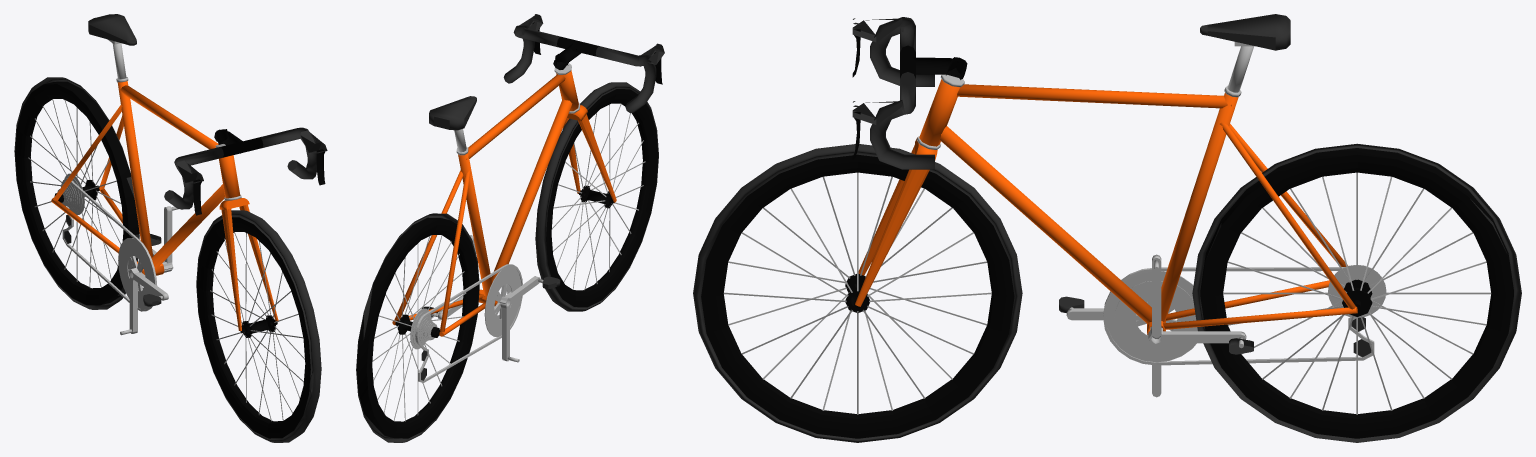
The model's file is velo.dae.
3 renders of one model, left to right at view 1: azimuth 30°, elevation 25°; view 2: azimuth 150°, elevation 25°; view 3: azimuth 270°, elevation 25°, orthographic. The views are drawn at different scales.
Visible parts, largest first — view 1: Wheel_Front_Pivot_Hub, Frame, Wheel_Rear_Pivot_Origin, Wheel_Rear_Pivot_Hub, Cockpit_Pivot_Origin, Wheel_Front_Pivot_ST, Crankset_Pivot_Origin, Crankset_Pivot_BB, Cockpit_Pivot_ST, Wheel_Front_Pivot_Origin, Chain; view 2: Frame, Wheel_Front_Pivot_ST, Wheel_Rear_Pivot_Origin, Wheel_Rear_Pivot_Hub, Wheel_Front_Pivot_Hub, Cockpit_Pivot_ST, Cockpit_Pivot_Origin, Crankset_Pivot_BB, Wheel_Front_Pivot_Origin, Crankset_Pivot_Origin, Chain; view 3: Frame, Wheel_Front_Pivot_ST, Wheel_Rear_Pivot_Origin, Wheel_Rear_Pivot_Hub, Wheel_Front_Pivot_Hub, Cockpit_Pivot_Origin, Crankset_Pivot_Origin, Cockpit_Pivot_ST, Crankset_Pivot_BB, Wheel_Front_Pivot_Origin, Chain.
Part boxes in pixels (box(x1,y1,x2,y2)): Wheel_Front_Pivot_Hub: box(199, 210, 321, 440); Frame: box(51, 14, 241, 275); Wheel_Rear_Pivot_Origin: box(14, 77, 139, 305); Wheel_Rear_Pivot_Hub: box(14, 78, 139, 309); Cockpit_Pivot_Origin: box(164, 127, 327, 330); Wheel_Front_Pivot_ST: box(196, 210, 312, 441); Crankset_Pivot_Origin: box(118, 238, 173, 309); Crankset_Pivot_BB: box(118, 206, 178, 335); Cockpit_Pivot_ST: box(169, 129, 325, 330); Wheel_Front_Pivot_Origin: box(198, 212, 319, 442); Chain: box(61, 178, 157, 311); Frame: box(392, 63, 580, 336); Wheel_Front_Pivot_ST: box(535, 89, 657, 311); Wheel_Rear_Pivot_Origin: box(356, 213, 479, 438); Wheel_Rear_Pivot_Hub: box(356, 214, 479, 442); Wheel_Front_Pivot_Hub: box(548, 82, 658, 307); Cockpit_Pivot_ST: box(515, 14, 664, 202); Cockpit_Pivot_Origin: box(503, 15, 664, 200); Crankset_Pivot_BB: box(470, 235, 519, 362); Wheel_Front_Pivot_Origin: box(535, 84, 655, 311); Crankset_Pivot_Origin: box(430, 269, 543, 336); Chain: box(415, 264, 522, 382); Frame: box(917, 14, 1357, 334); Wheel_Front_Pivot_ST: box(700, 152, 1022, 442); Wheel_Rear_Pivot_Origin: box(1193, 143, 1521, 438); Wheel_Rear_Pivot_Hub: box(1192, 146, 1521, 442); Wheel_Front_Pivot_Hub: box(693, 144, 1006, 438); Cockpit_Pivot_Origin: box(852, 17, 967, 304); Crankset_Pivot_Origin: box(1066, 271, 1246, 362); Cockpit_Pivot_ST: box(853, 17, 962, 306); Crankset_Pivot_BB: box(1106, 254, 1197, 397); Wheel_Front_Pivot_Origin: box(700, 154, 1020, 438); Chain: box(1103, 267, 1374, 365).
Bounding box in the file's own units: 0.42 × 1.64 × 0.9131.
